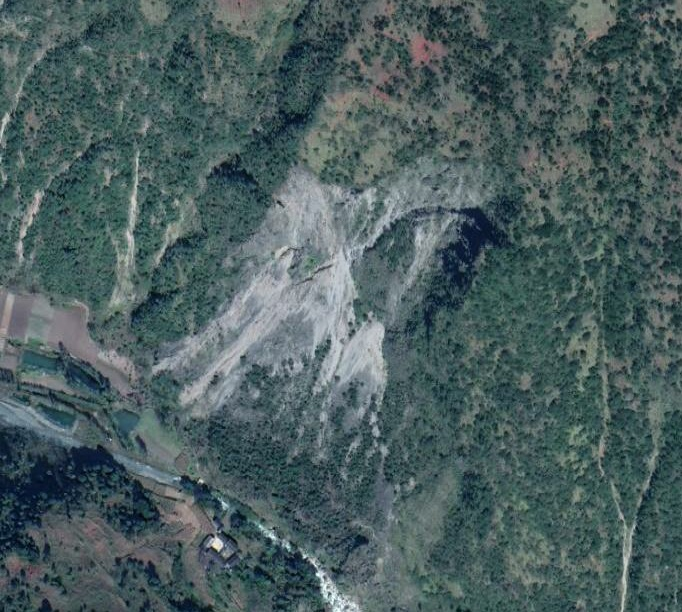slope: (151, 238, 388, 425)
